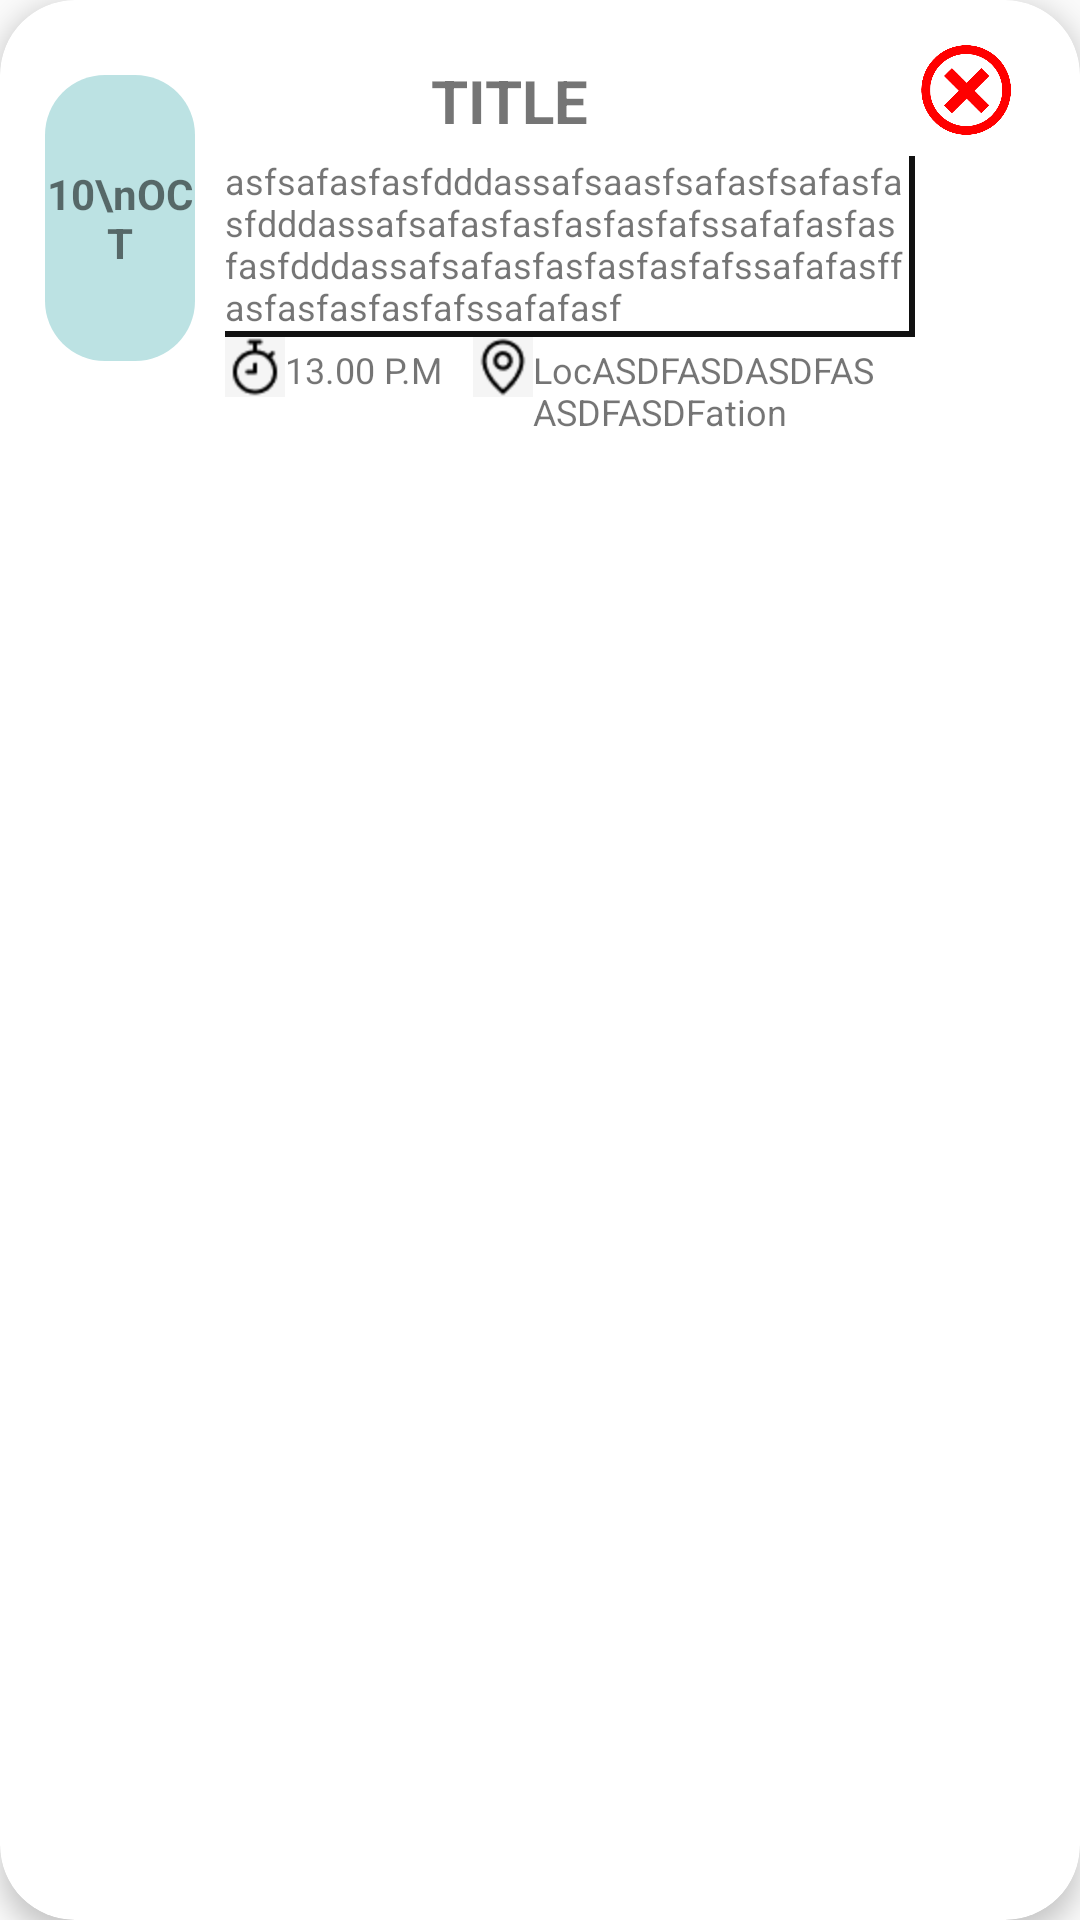

Where icons sit on this 1080*1920 app screen, as (x1, y1, x2, y2):
cancel: (921, 45, 1011, 135)
location: (480, 338, 526, 396)
time: (225, 337, 285, 397)
